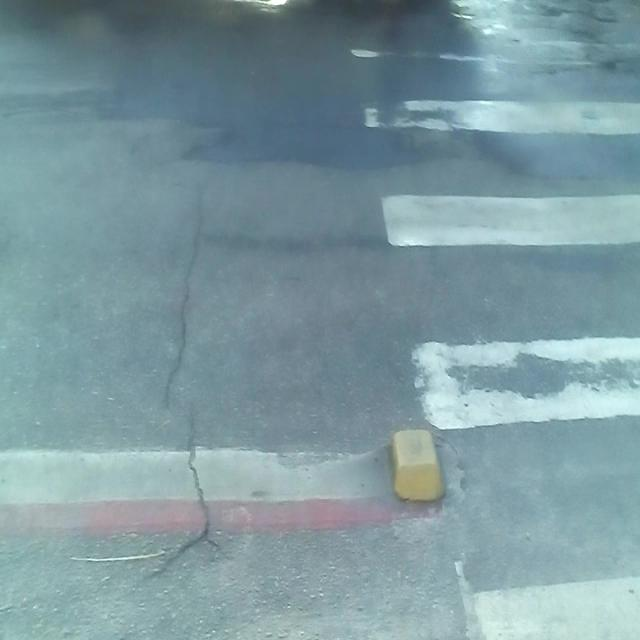crosswalk: (340, 0, 640, 640)
